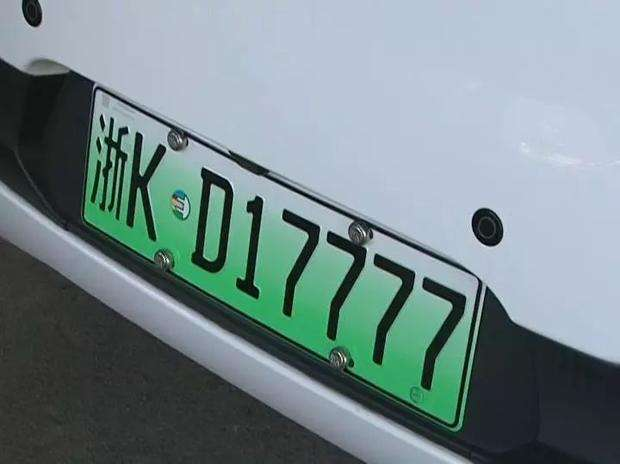plate: (63, 57, 497, 450)
